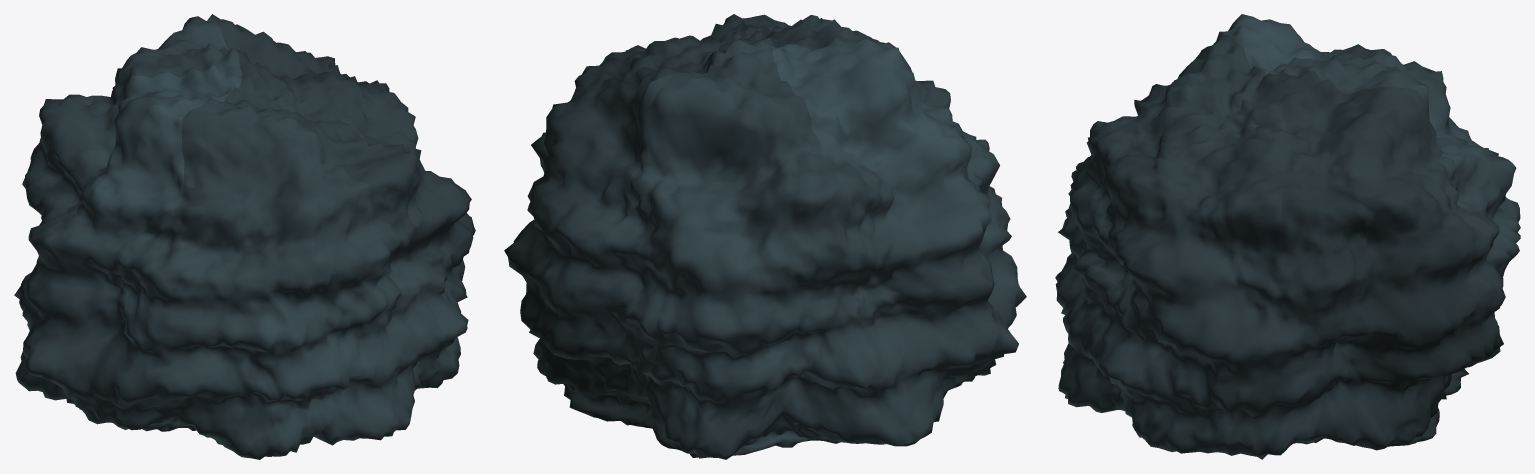
Rendered from SM_Basalt_01.fbx.
The picture shows the model from 3 angles, left to right: view 1: azimuth 30°, elevation 25°; view 2: azimuth 150°, elevation 25°; view 3: azimuth 270°, elevation 25°; orthographic projection. The views are drawn at different scales.
Parts seen in each view (by area): view 1: SM_Basalt_01.001; view 2: SM_Basalt_01.001; view 3: SM_Basalt_01.001.
Boxes of the visible parts, x1,y1,x2,y2 form: SM_Basalt_01.001: [14, 14, 475, 459]; SM_Basalt_01.001: [504, 14, 1026, 459]; SM_Basalt_01.001: [1055, 14, 1520, 459].
Bounding box in the file's own units: 231 × 211 × 172.
